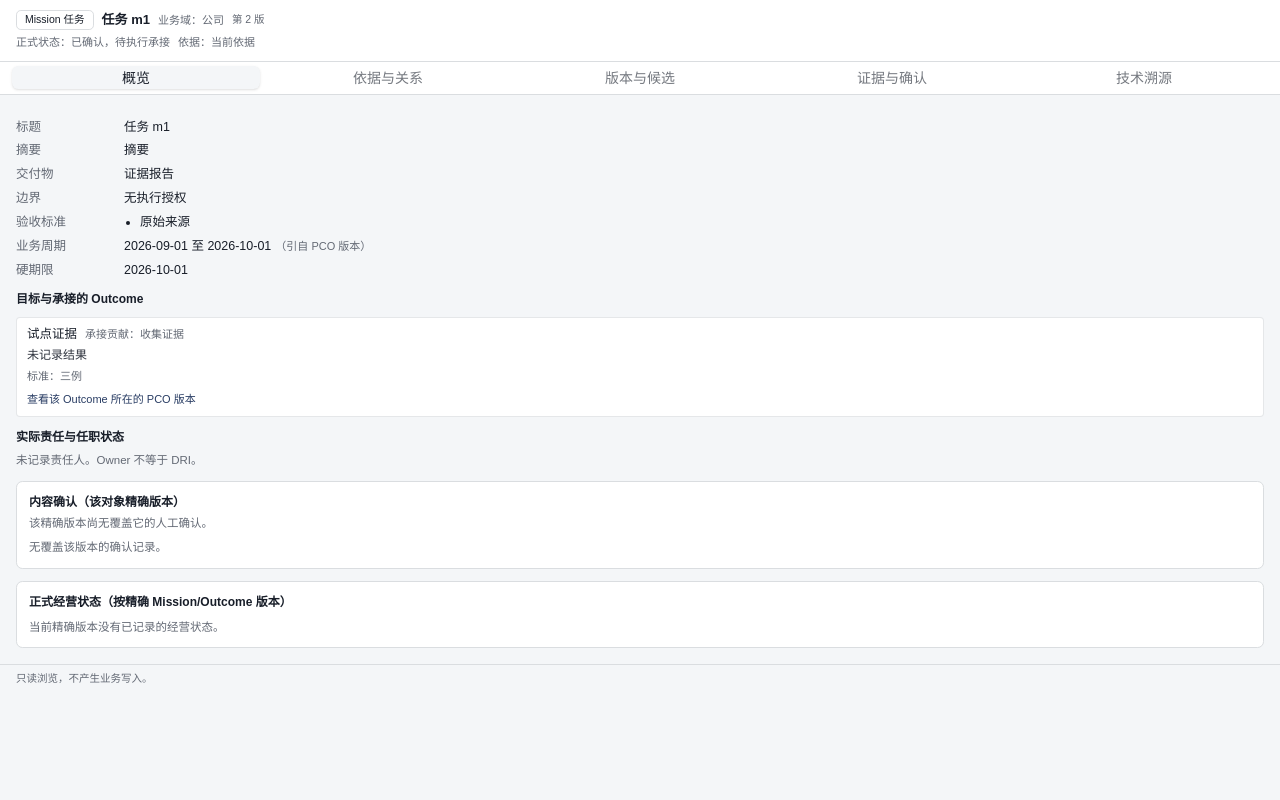
Test case: browser readability fixes › does not repeat direct typed bases as source materials
Click the tab "依据与关系" at (388, 78), box [264,66,512,89]
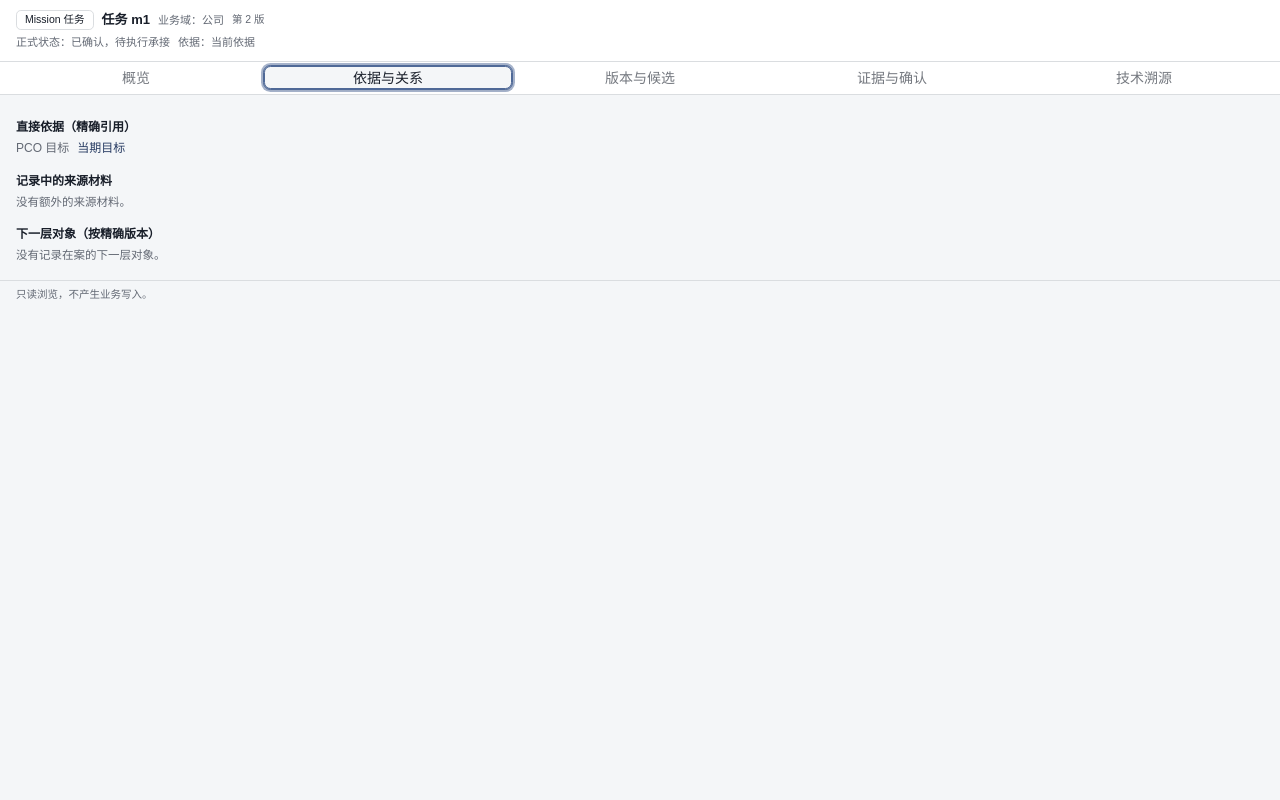
Expected: the heading "直接依据（精确引用）" is shown, [16,120,136,134]
Expected: the text "没有额外的来源材料。" is shown, [16,196,131,208]
